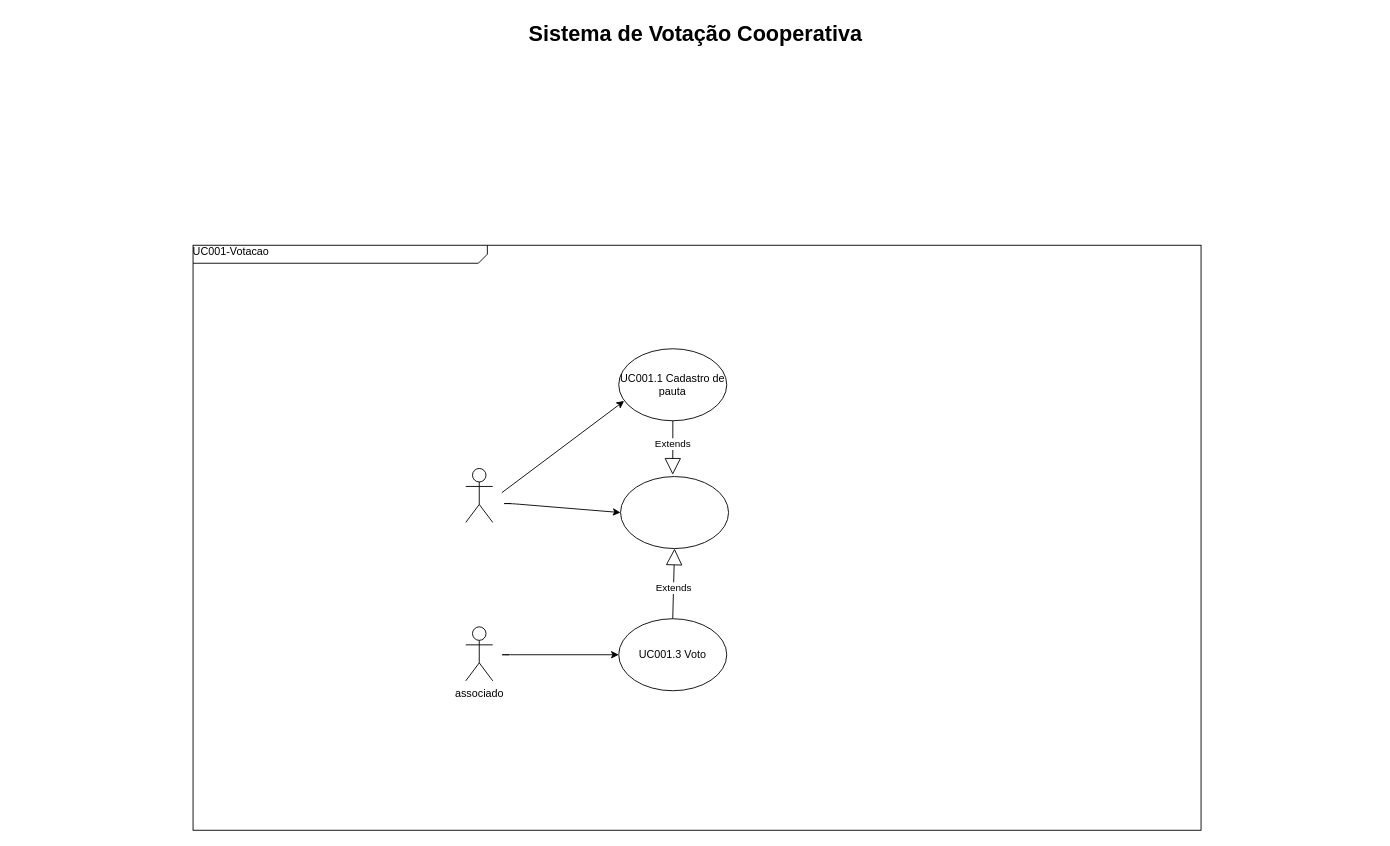
Image size: 1390x846. Some labels were removed from this diagram. The centre of each missing label's shape, as x and y in pixels:
"Mesario" goes at (479,495).
"UC001.2 Abertura sessão de votação" goes at (674,512).
